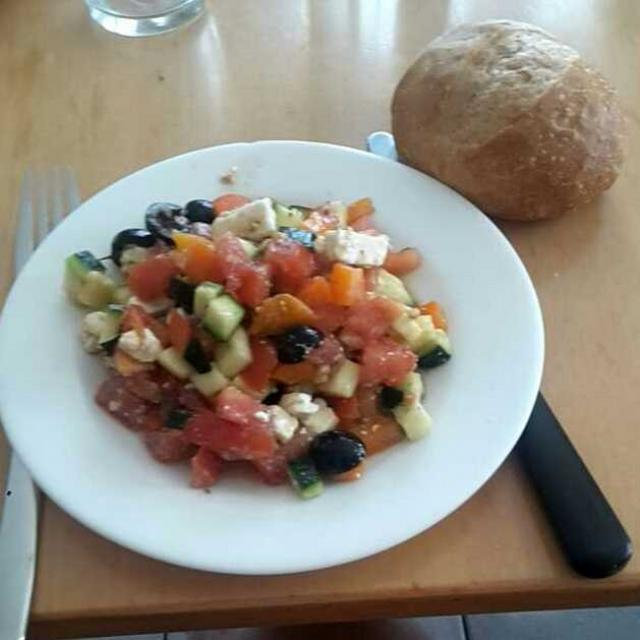greek-salad: (68, 197, 447, 490)
